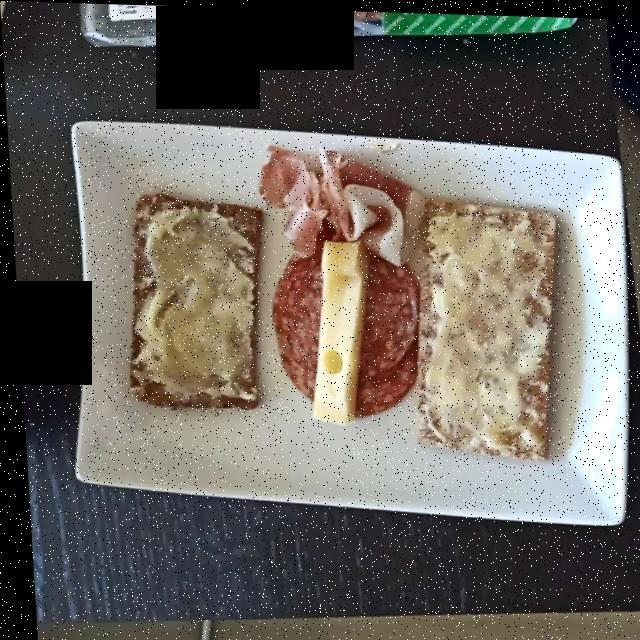bread: (117, 171, 566, 465)
butter: (140, 204, 542, 438)
ham: (245, 154, 414, 272)
salami: (267, 230, 408, 414)
